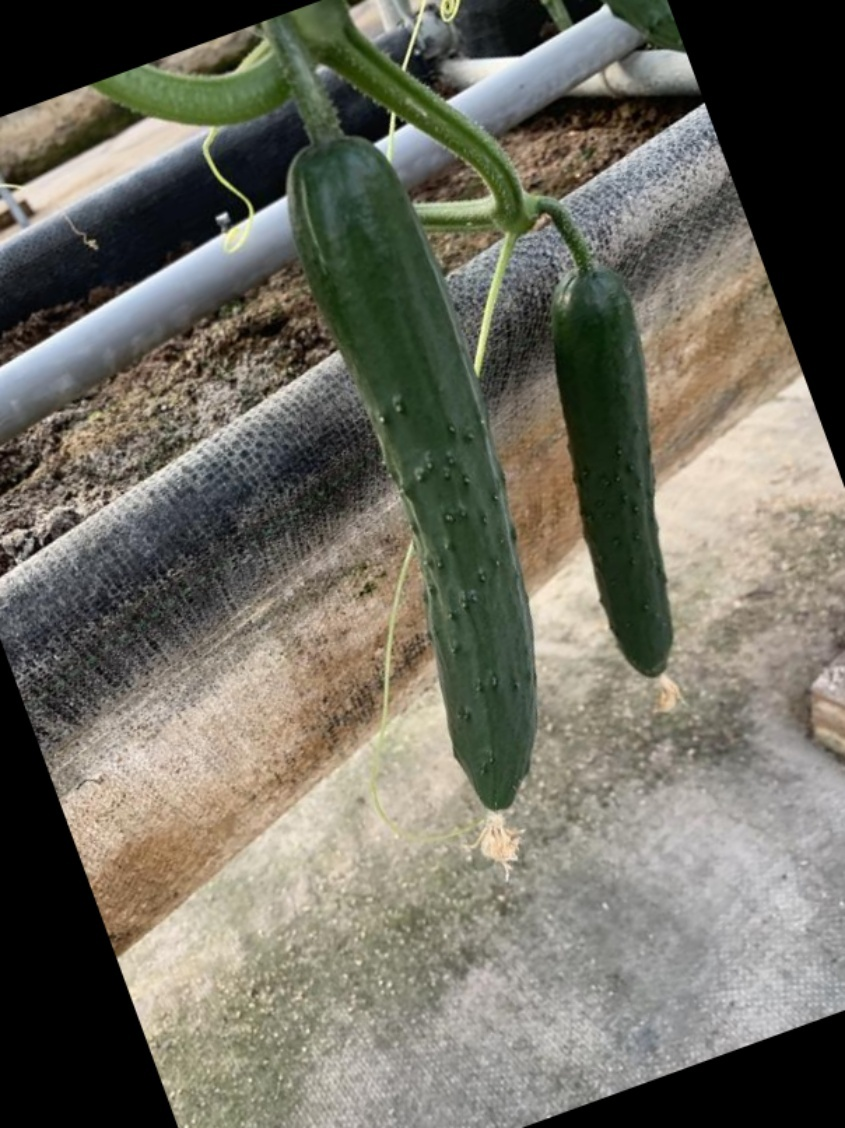mature: (287, 122, 556, 847), (550, 254, 678, 685)
